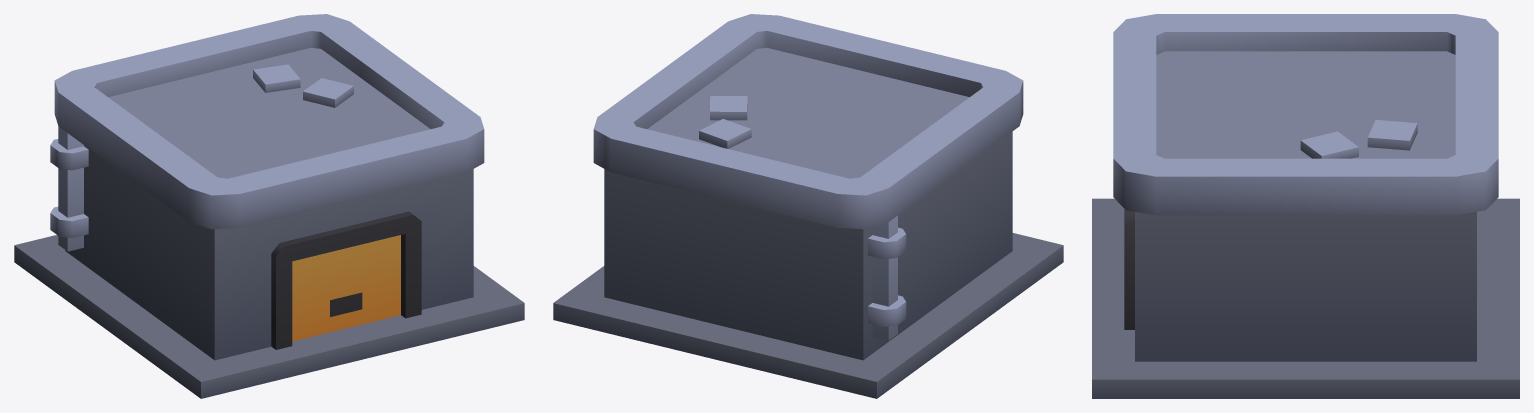
File: garage-high.glb
The picture shows the model from 3 angles, left to right: view 1: azimuth 30°, elevation 25°; view 2: azimuth 150°, elevation 25°; view 3: azimuth 270°, elevation 25°; orthographic projection. The views are drawn at different scales.
Size of the model in its own units: 1 by 0.55 by 1.
